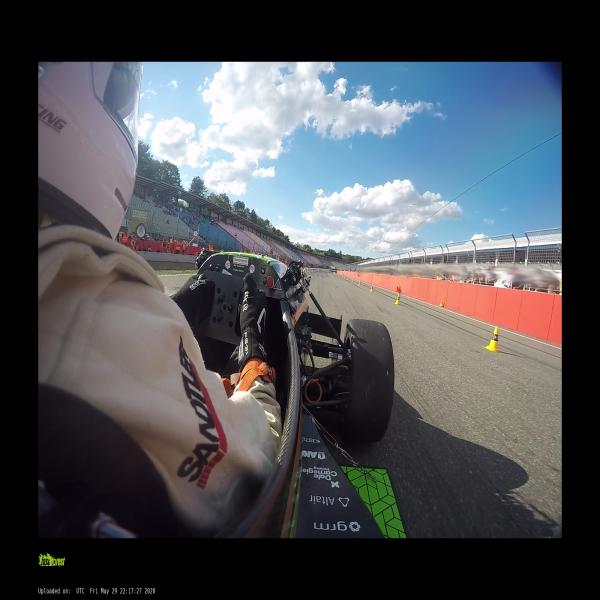yellow_cone: (484, 327, 502, 352), (394, 293, 400, 305), (369, 284, 373, 292), (439, 299, 443, 307), (358, 280, 361, 286), (352, 278, 354, 283), (347, 276, 348, 280), (344, 276, 345, 279), (342, 275, 343, 278)
